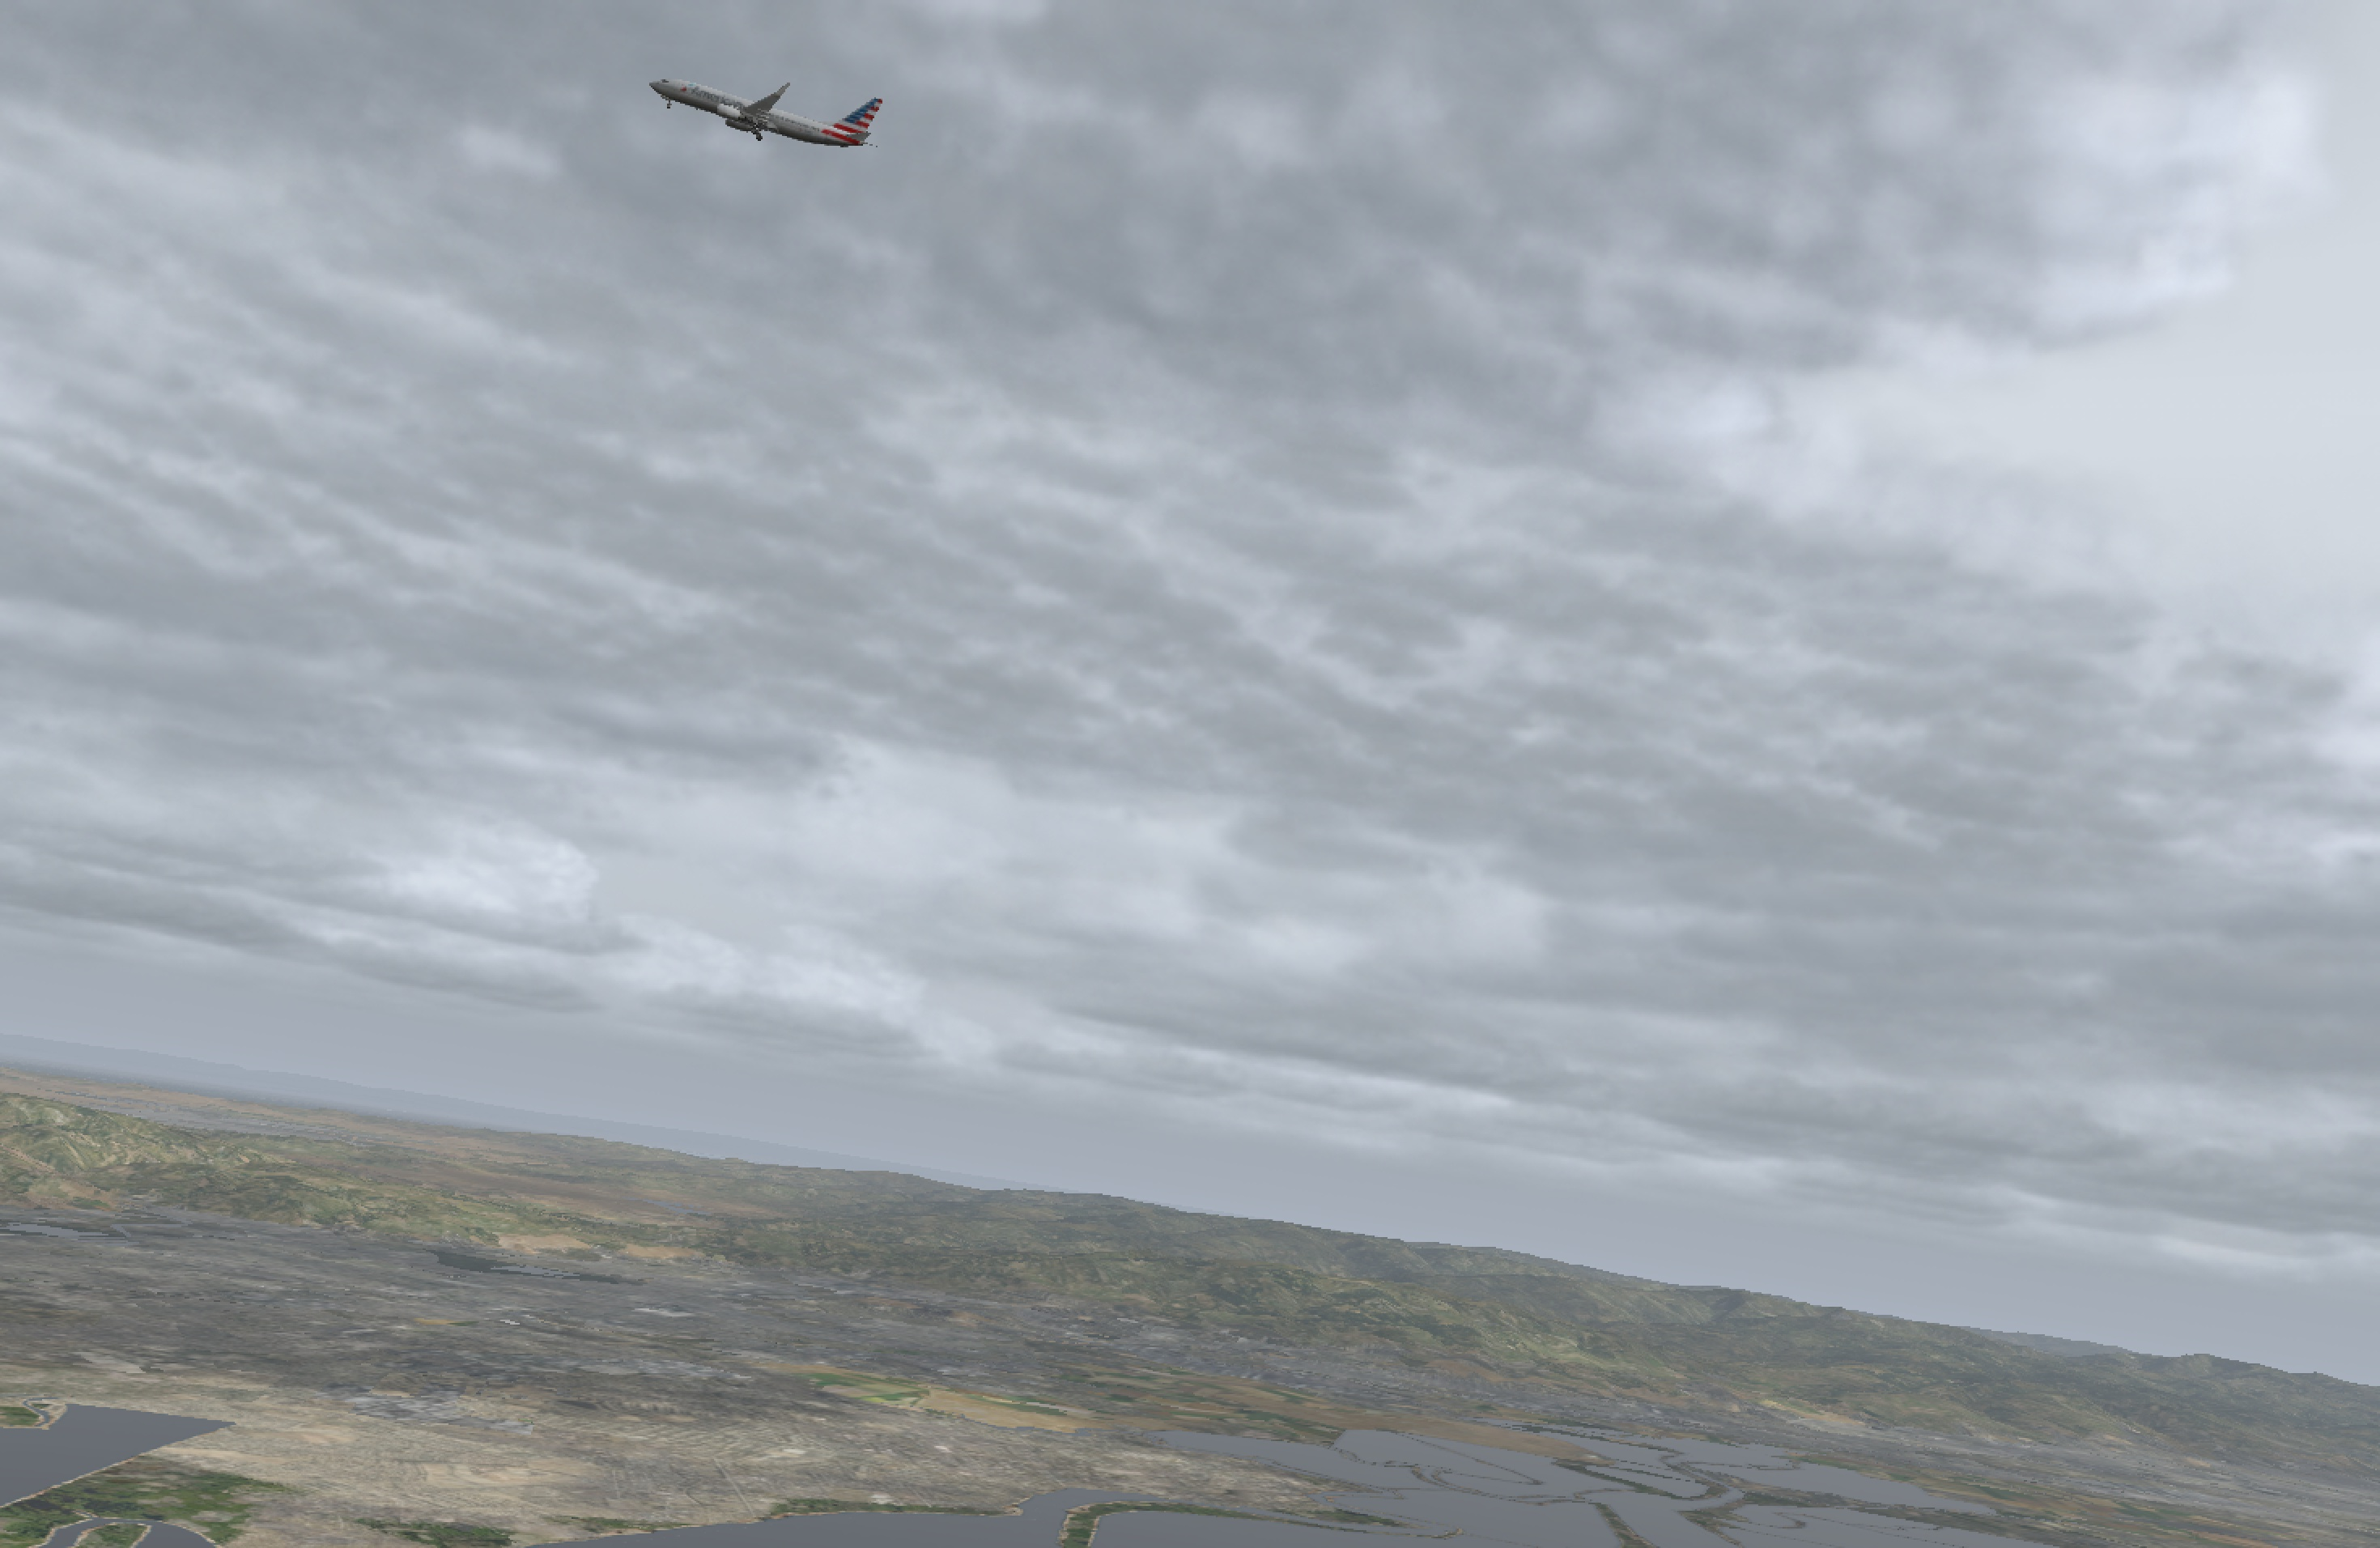aircraft: (647, 78, 857, 156)
